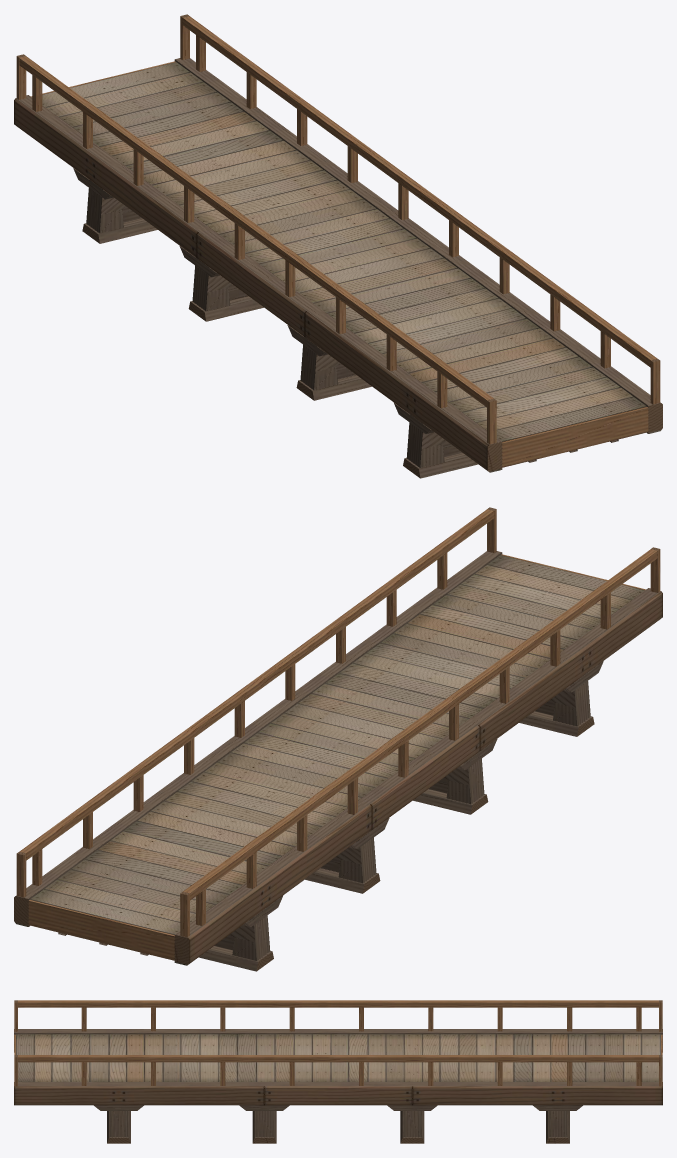
Rendered from wooden-footbridge-authored-v2.glb.
3 views of the same model, one above another, from view 1: azimuth 30°, elevation 25°; view 2: azimuth 150°, elevation 25°; view 3: azimuth 270°, elevation 25° (orthographic). The views are drawn at different scales.
Parts seen in each view (by area): view 1: Wooden-footbridgeBody; view 2: Wooden-footbridgeBody; view 3: Wooden-footbridgeBody.
Part boxes in pixels (box(x1,y1,x2,y2)): Wooden-footbridgeBody: box(14, 14, 662, 478); Wooden-footbridgeBody: box(14, 507, 662, 971); Wooden-footbridgeBody: box(14, 1000, 662, 1143).
Size of the model in its own units: 3 by 2.05 by 14.04.
1 material, 1 textured.
